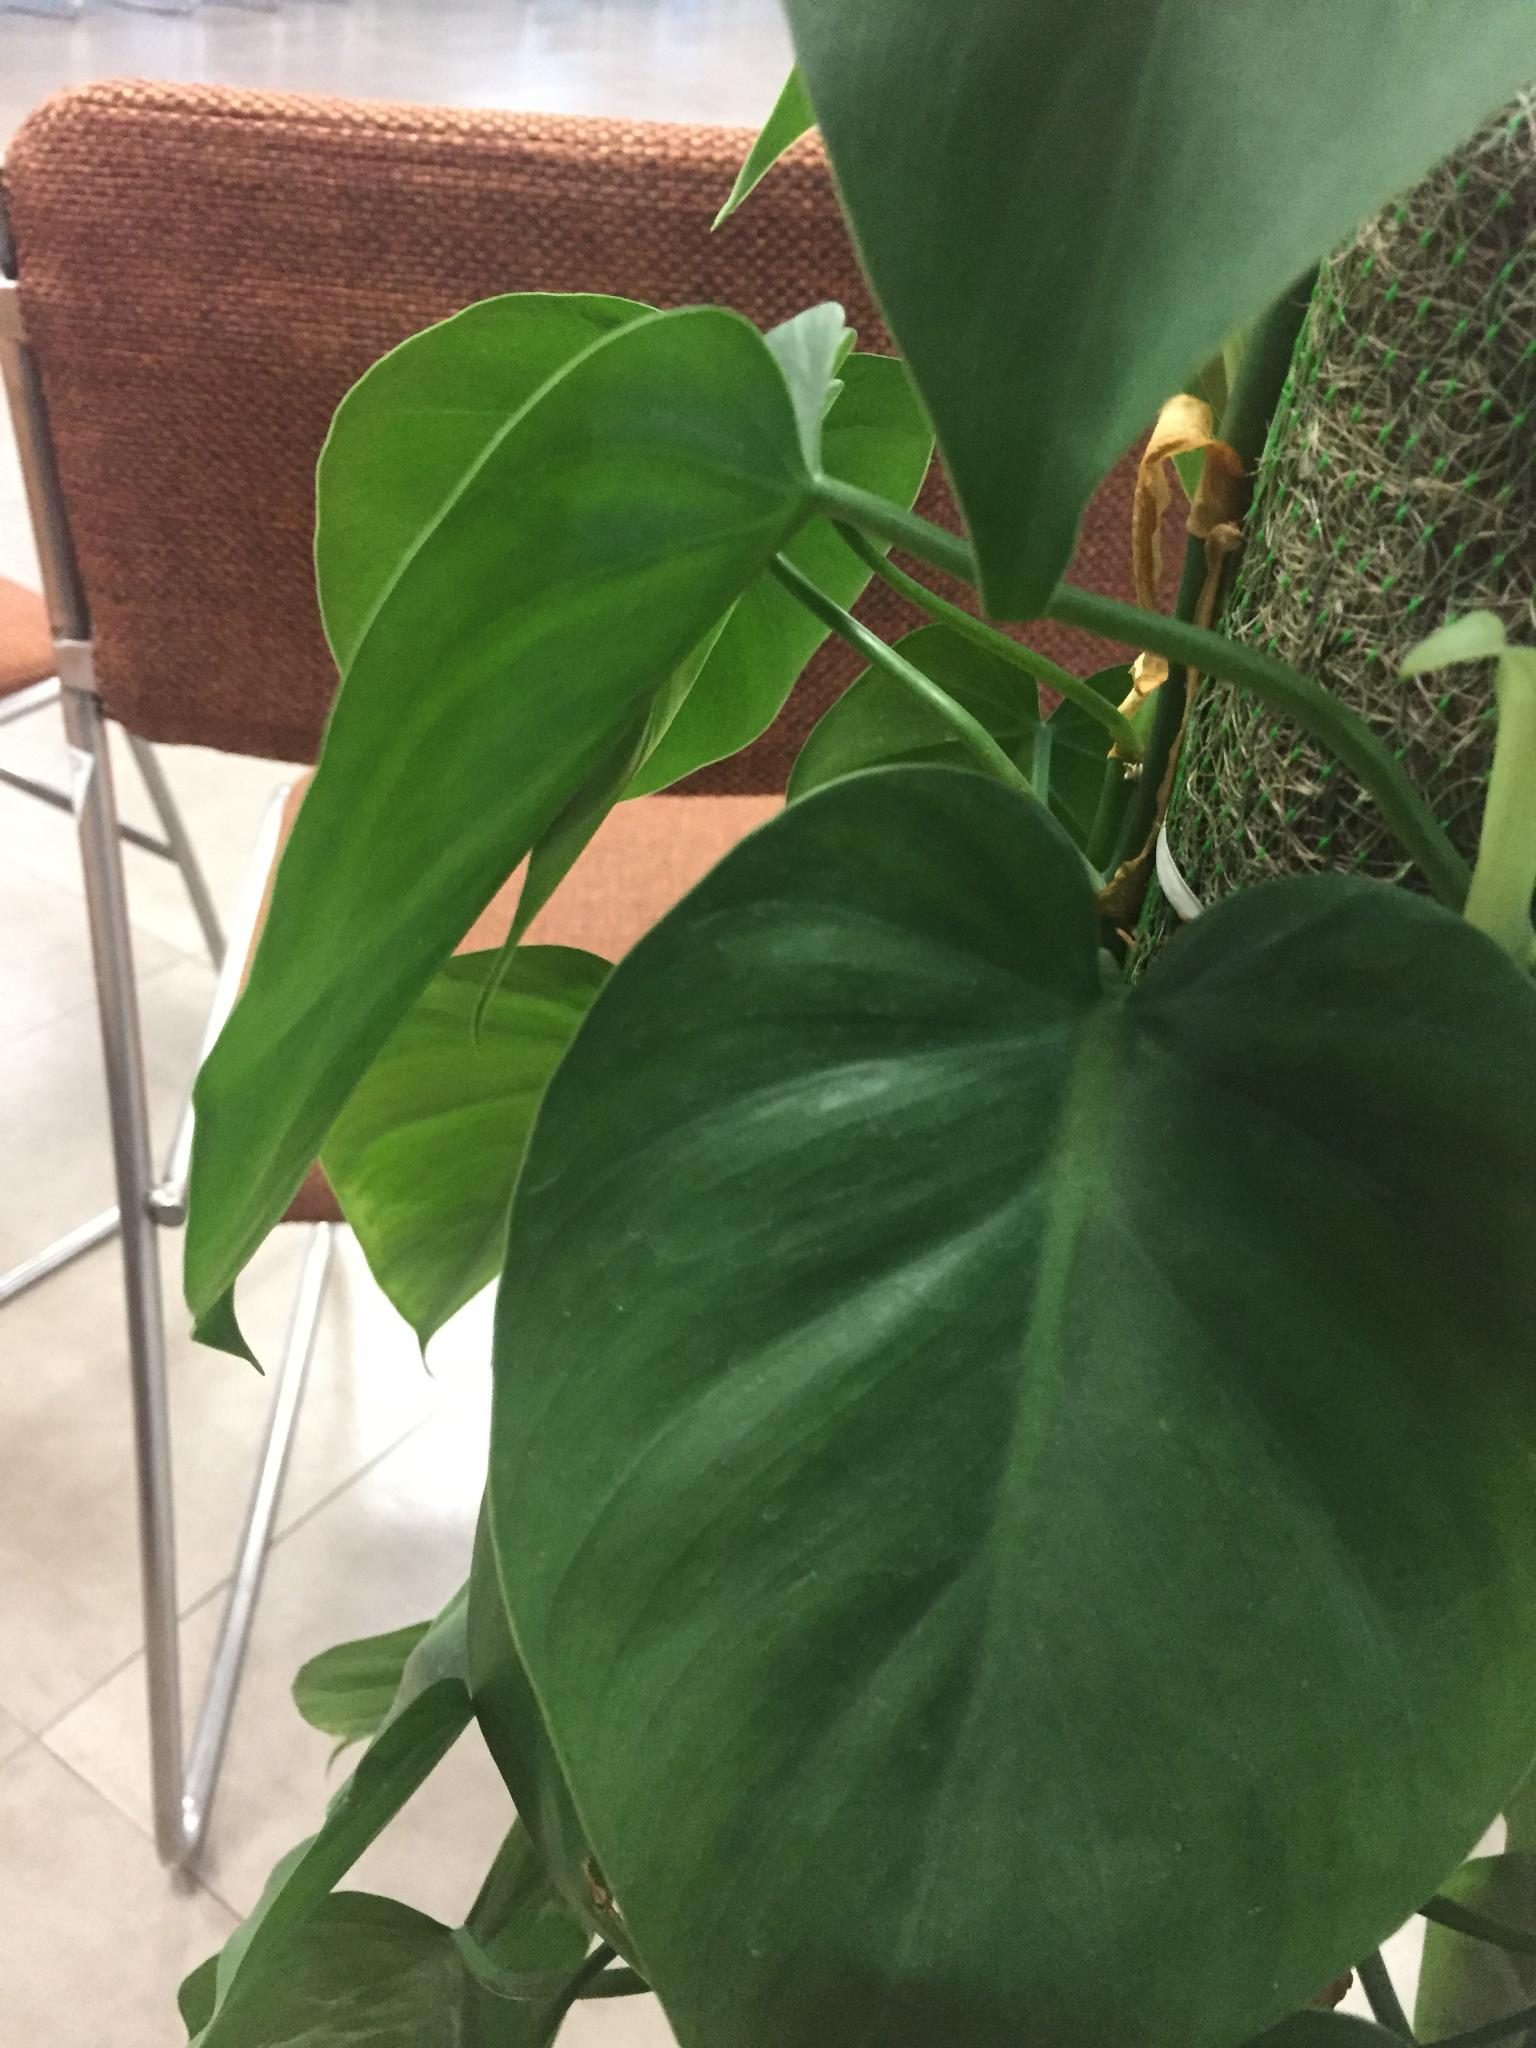chair: (6, 35, 1275, 1924)
